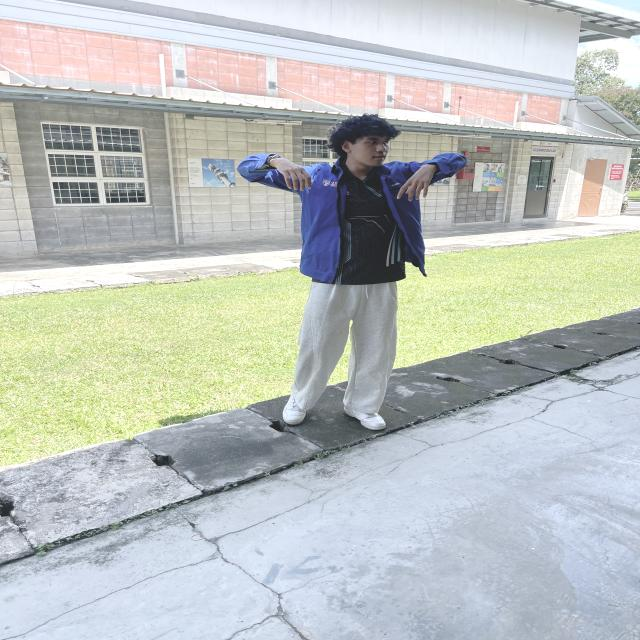person_with_labcoat: (239, 114, 466, 430)
